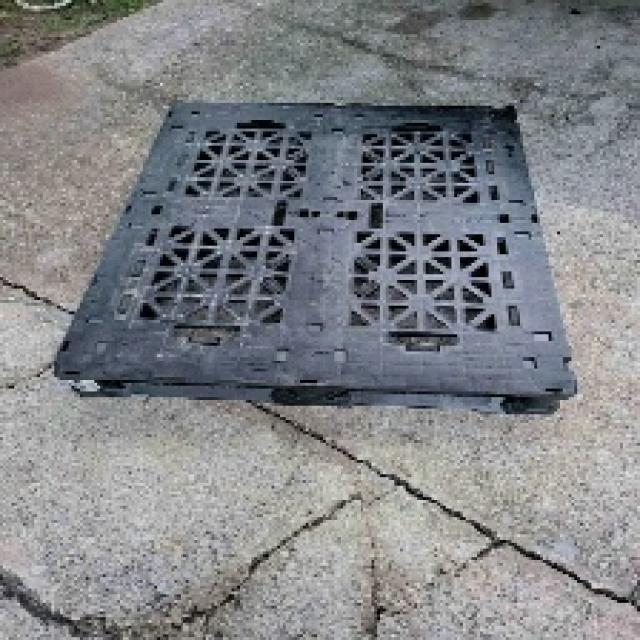igps: (46, 96, 584, 421)
